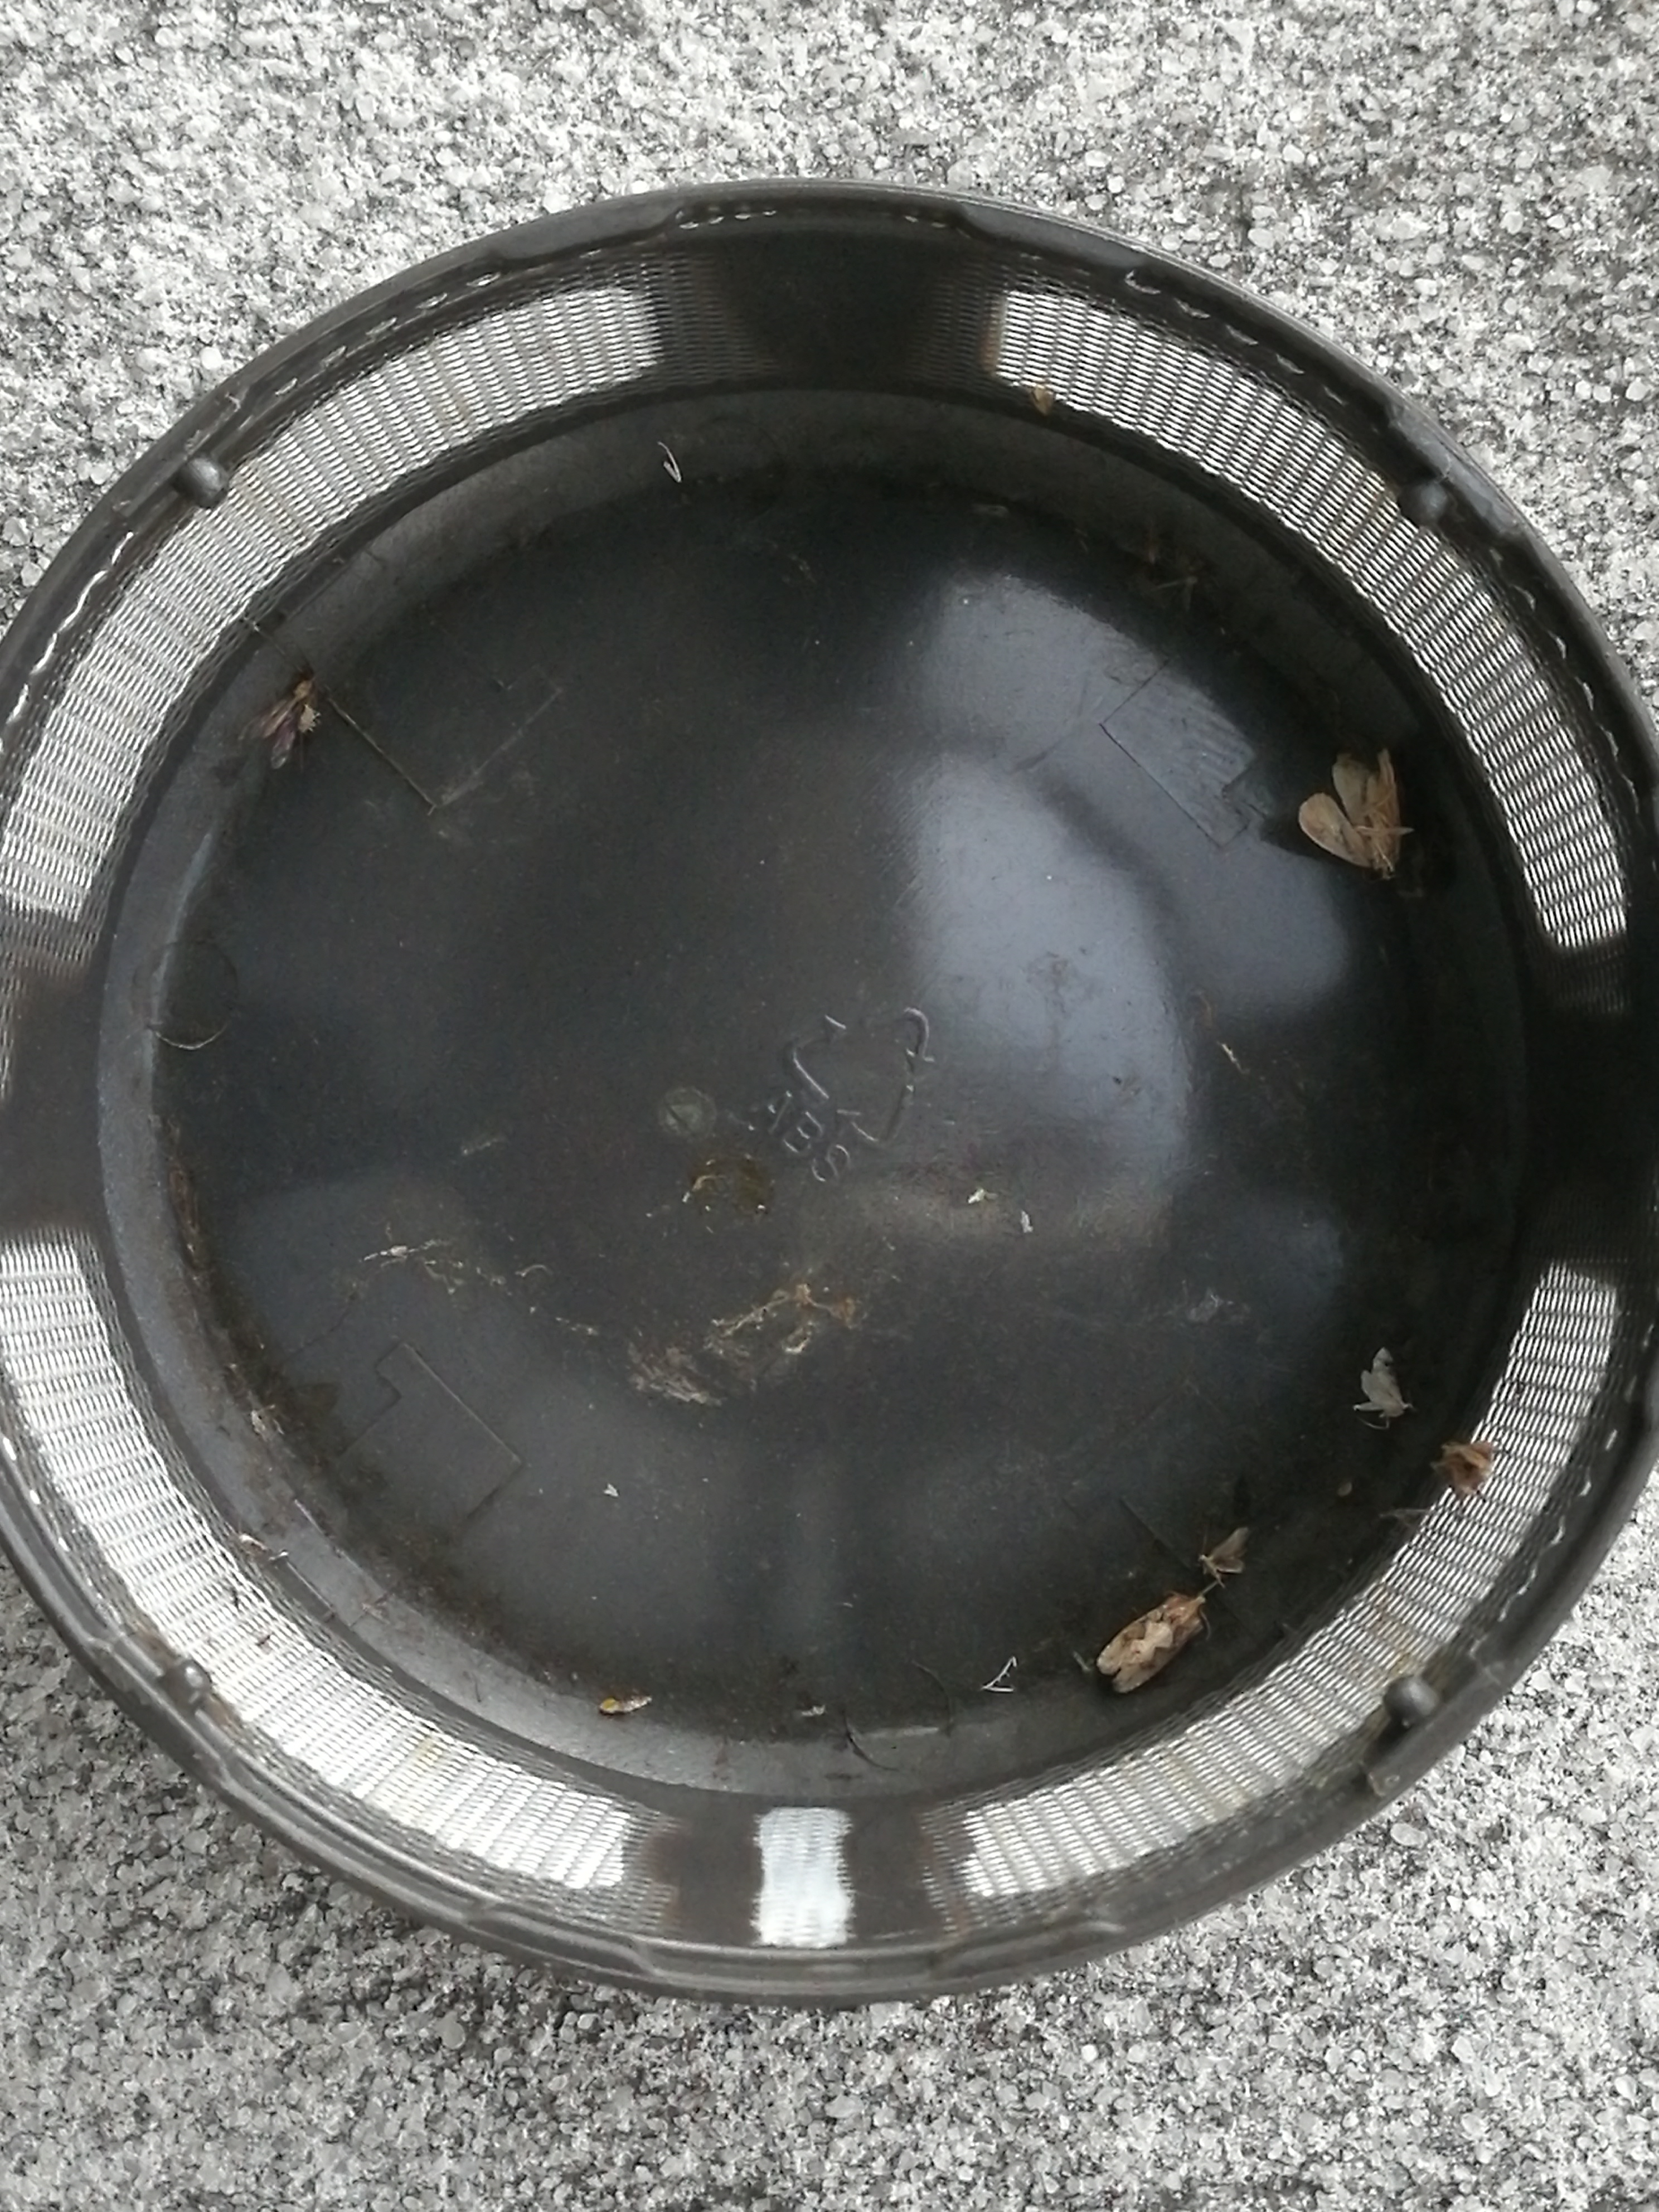moth: (1298, 749, 1401, 880), (1098, 1595, 1204, 1693), (237, 674, 312, 770), (1354, 1348, 1415, 1418), (1438, 1442, 1495, 1496), (1199, 1524, 1249, 1571)
